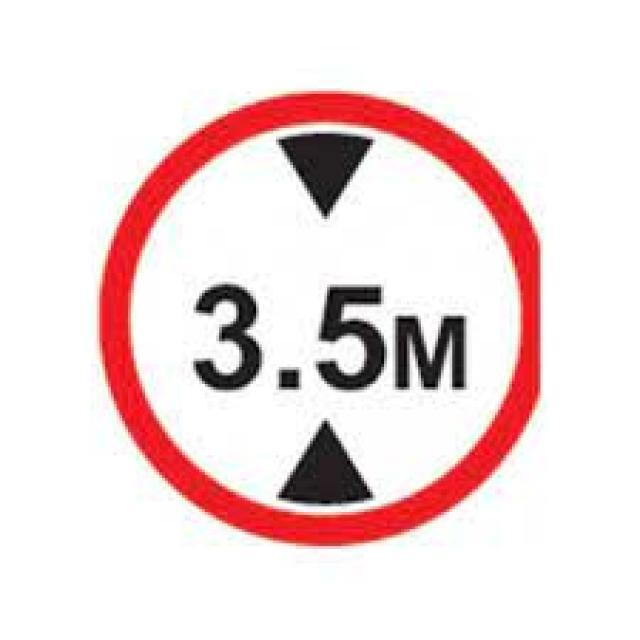height limit: (95, 87, 550, 551)
